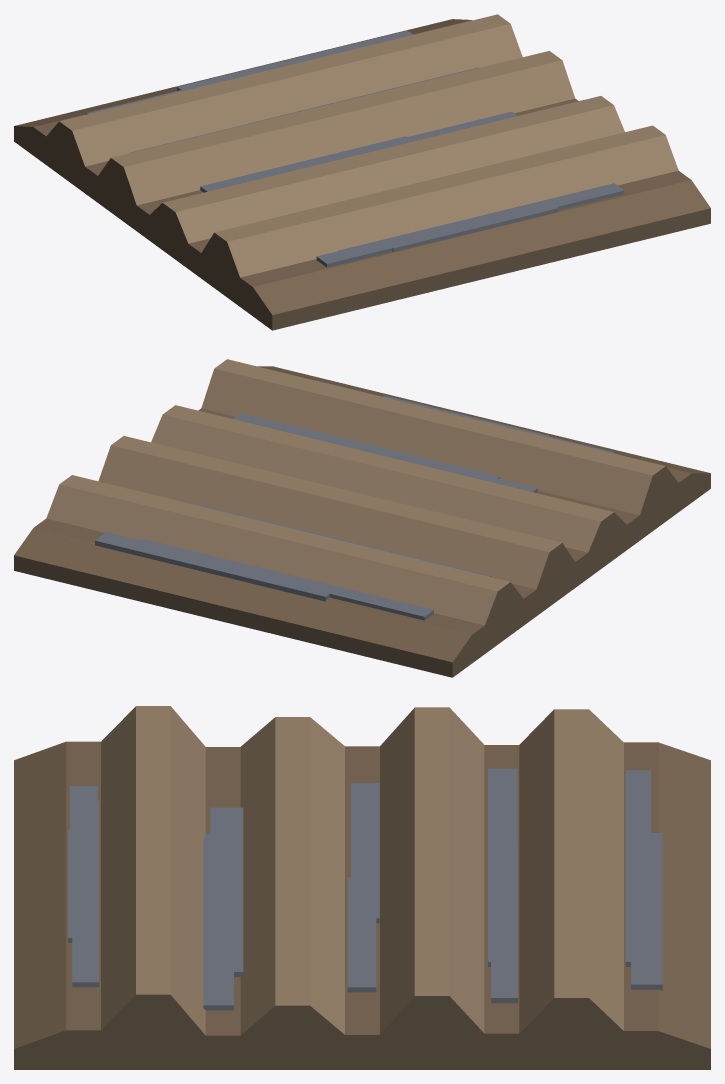
File: 33-Agricultura_tierra_regada.glb
3 renders of one model, top to bottom at view 1: azimuth 30°, elevation 25°; view 2: azimuth 150°, elevation 25°; view 3: azimuth 270°, elevation 25°, orthographic. The views are drawn at different scales.
Visible parts, largest first — view 1: SM_TierraRegada; view 2: SM_TierraRegada; view 3: SM_TierraRegada.
Part boxes in pixels (box(x1,y1,x2,y2)): SM_TierraRegada: box(14, 14, 710, 330); SM_TierraRegada: box(14, 359, 710, 677); SM_TierraRegada: box(14, 706, 710, 1069).
Size of the model in its own units: 0.98 by 0.1188 by 1.
